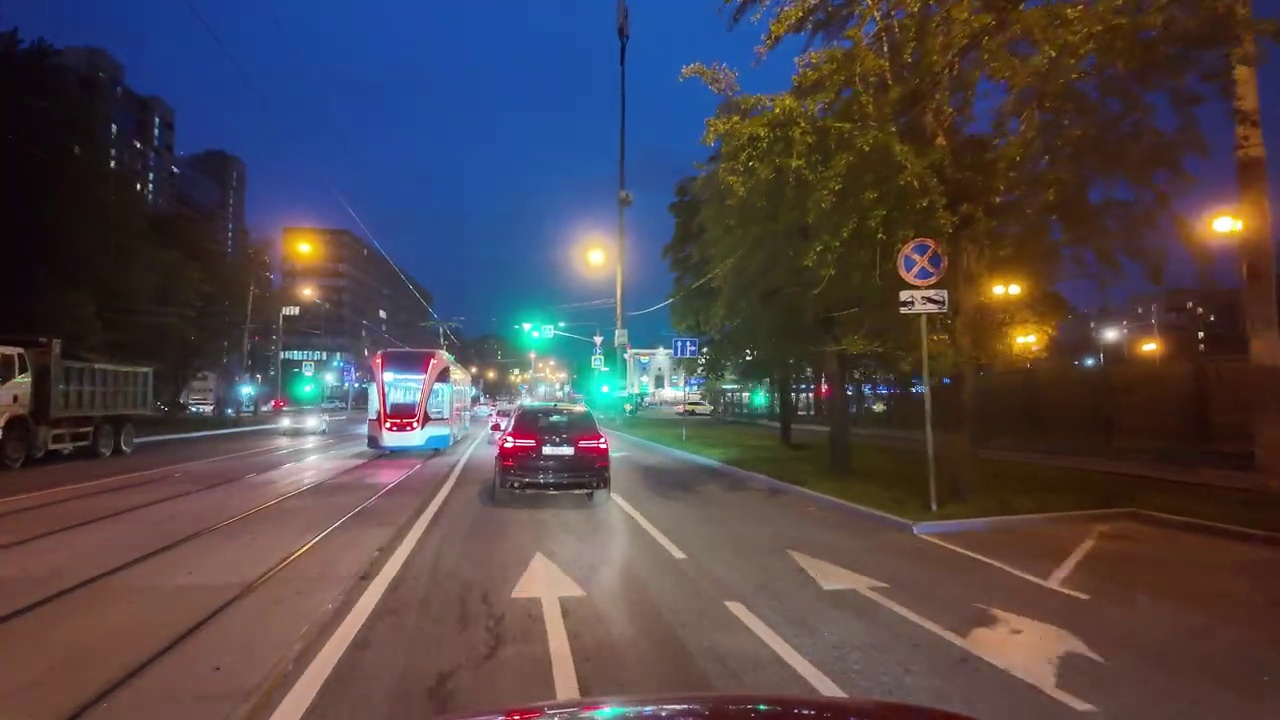acesa: (1198, 201, 1261, 249), (577, 238, 616, 276), (983, 275, 1029, 307), (287, 230, 323, 264), (293, 280, 322, 304)
